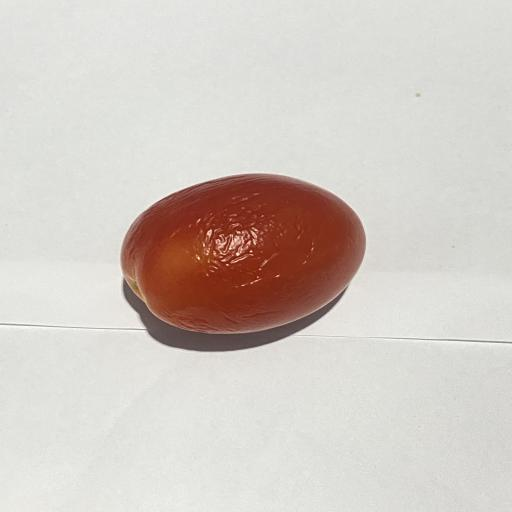spoiled: (121, 173, 365, 333)
